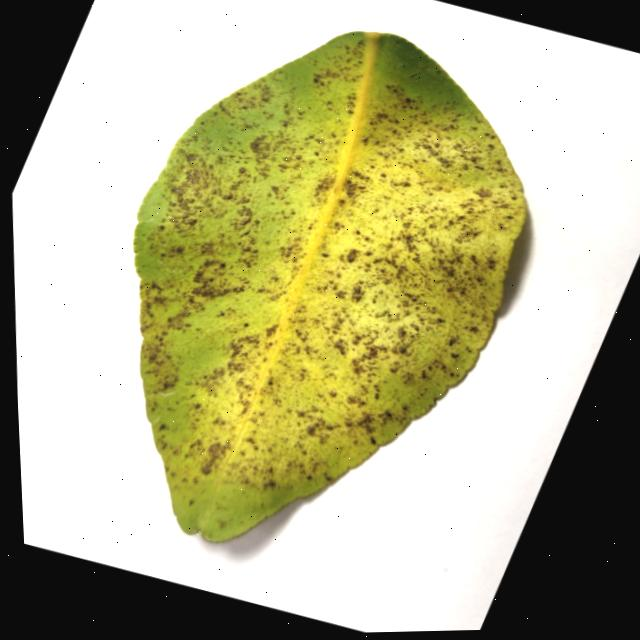melanose: (134, 31, 524, 540)
